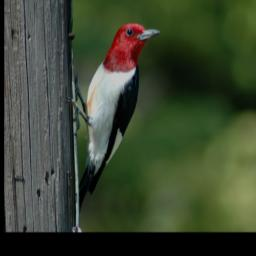Woodpecker: (62, 22, 163, 218)
